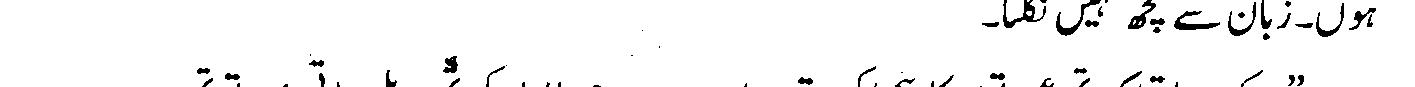bay_shosha: (1258, 13, 1272, 40)
